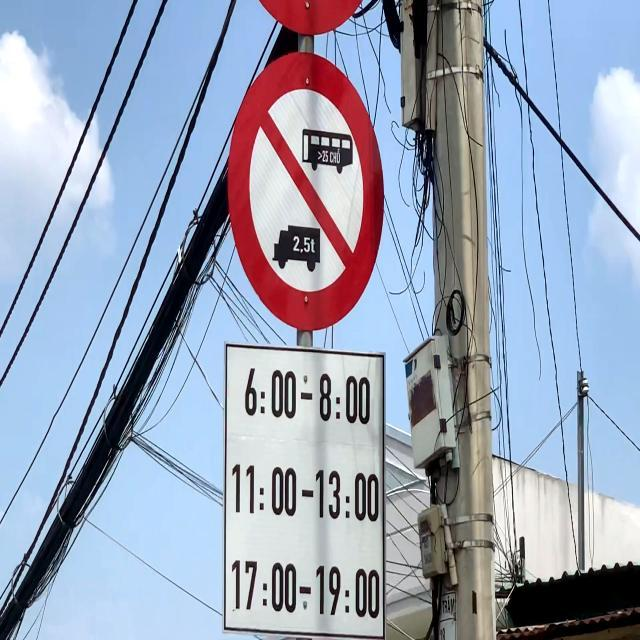Bien bao cam xe oto khach va xe oto tai: (216, 39, 394, 330)
